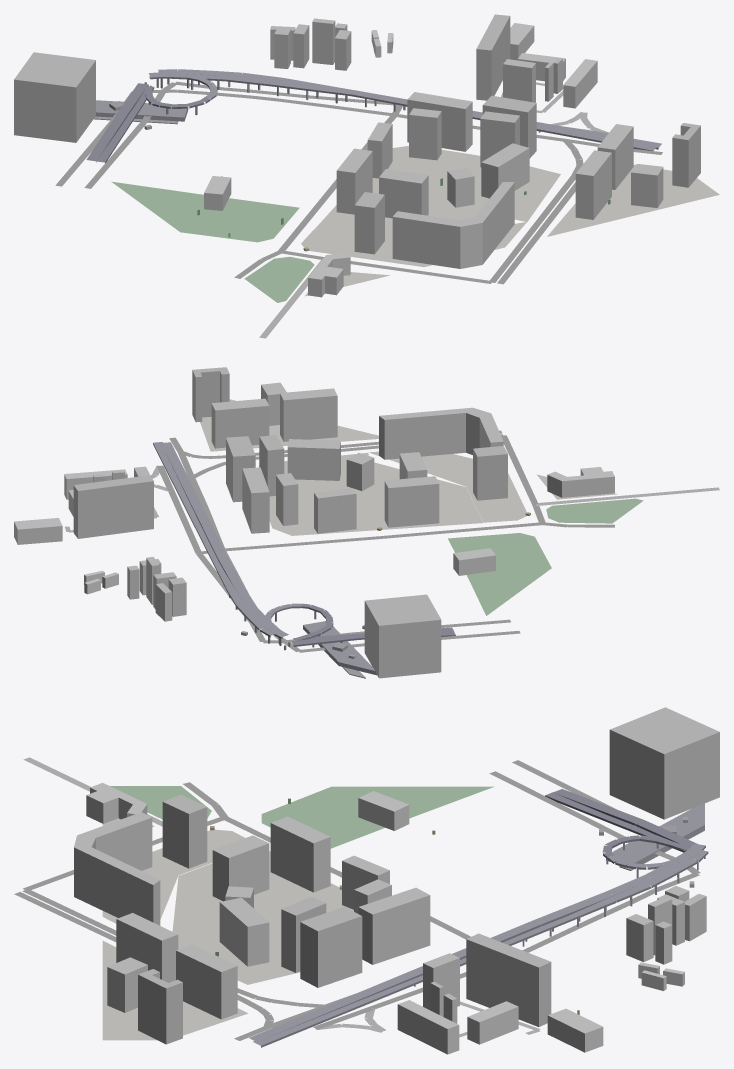
3 views of the same model, one above another, from view 1: azimuth 30°, elevation 25°; view 2: azimuth 150°, elevation 25°; view 3: azimuth 270°, elevation 25° (orthographic). The views are drawn at different scales.
Size of the model in its own units: 583 by 70.74 by 586.
